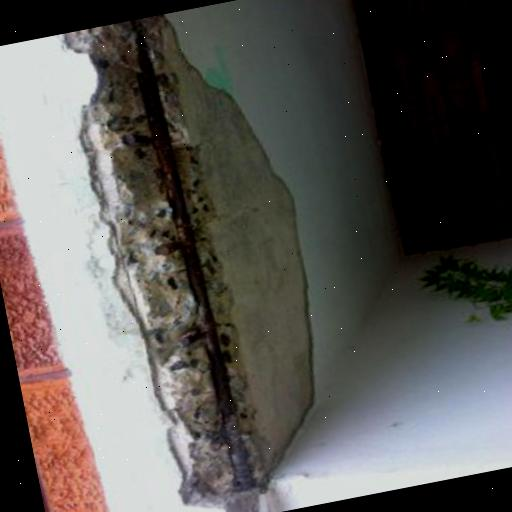spalling: (54, 13, 322, 512)
